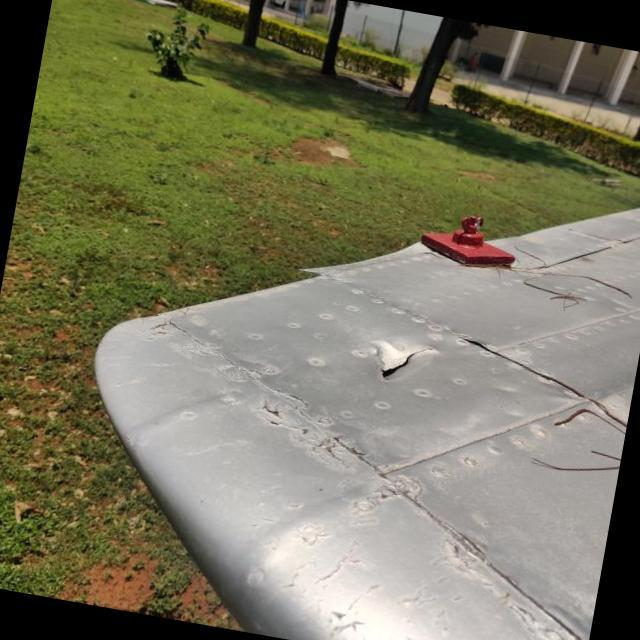Rupture: (359, 323, 443, 396)
